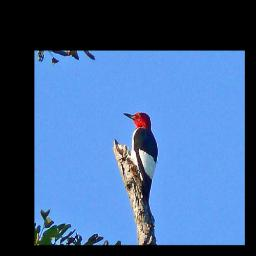Woodpecker: (118, 104, 166, 224)
